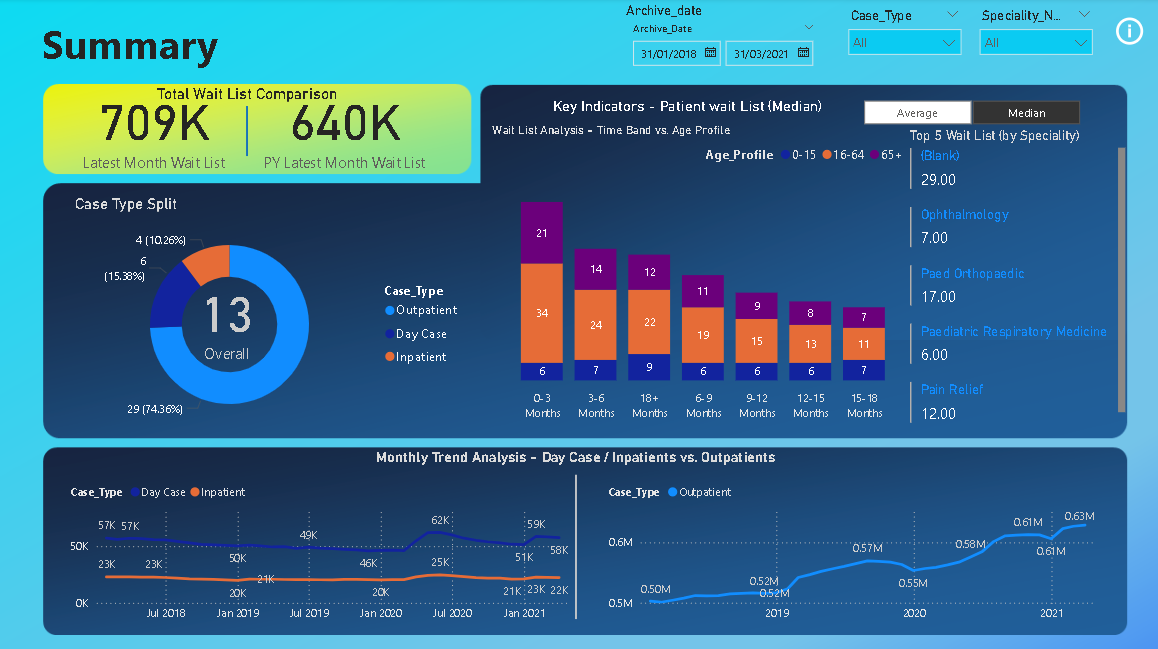

The dashboard page shown, as its layout file describes it:
{"tool":"powerbi","page":{"name":"Summary","canvas":[1280,720],"ordinal":0},"visuals":[{"type":"card","fields":{"Values":["All_Data.Latest Month Wait List"]},"box":[40.4,85.2,272.2,112.4],"z":0},{"type":"card","fields":{"Values":["All_Data.PY Latest Month Wait List"]},"box":[241.5,85.2,288,112.4],"z":1000},{"type":"donutChart","title":"Case Type Split","fields":{"Category":["All_Data.Case_Type"],"Y":["All_Data.Avg/Med Wait List"]},"box":[83.4,215.8,434,267.3],"z":2000},{"type":"slicer","fields":{"Values":["Calculation Method (2).Calc Method"]},"box":[928.4,105.5,287.3,39.9],"z":3000},{"type":"columnChart","title":"Wait List Analysis - Time Band vs. Age Profile","fields":{"Y":["All_Data.Avg/Med Wait List"],"Category":["All_Data.Time_Bands"],"Series":["All_Data.Age_Profile"]},"box":[541.9,137.3,465.9,333.5],"z":4000},{"type":"multiRowCard","title":"Top 5 Wait List (by Speciality)","fields":{"Values":["All_Data.Specialty_Name","All_Data.Avg/Med Wait List"]},"box":[1000.9,143.1,246.5,333.9],"z":5000},{"type":"shape","title":"Monthly Trend Analysis - Day Case / Inpatients vs. Outpatients","box":[392.3,495.3,492.9,186.4],"z":5500},{"type":"card","fields":{"Values":["All_Data.NoDataLeft"]},"box":[186.4,522.3,355.6,159.4],"z":6000},{"type":"lineChart","fields":{"Category":["All_Data.Archive_Date"],"Y":["Sum(All_Data.Total)"],"Series":["All_Data.Case_Type"]},"box":[79.5,523,568,171.4],"z":7000},{"type":"card","fields":{"Values":["All_Data.NoDataRight"]},"box":[770,514.5,354.7,159.8],"z":8000},{"type":"lineChart","fields":{"Category":["All_Data.Archive_Date"],"Y":["Sum(All_Data.Total)"],"Series":["All_Data.Case_Type"]},"box":[670,523.3,545.3,171.2],"z":9000},{"type":"slicer","title":"Archive_date","fields":{"Values":["All_Data.Archive_Date"]},"box":[688.4,6.1,223.9,95.7],"z":10000},{"type":"slicer","fields":{"Values":["All_Data.Case_Type"]},"box":[928.1,6.1,144,70.2],"z":11000},{"type":"slicer","fields":{"Values":["All_Data.Speciality_Name"]},"box":[1072.1,6.1,144,70.2],"z":12000},{"type":"textbox","box":[48.3,15.8,212.5,79.9],"z":13000},{"type":"shape","title":"Total Wait List Comparison","box":[127.3,94.8,300.3,79],"z":14000},{"type":"card","fields":{"Values":["All_Data.Avg/Med Wait List"]},"box":[134.9,228,242.8,247.7],"z":16000},{"type":"card","fields":{"Values":["All_Data.Dynamic Title"]},"box":[530.9,94.6,460,49.9],"z":17000},{"type":"actionButton","box":[1227,15.9,39.8,39.8],"z":18000}]}

Visuals, with their boxes in screenshot pixels (x1, y1, x2, y2), scaled from the page's 1280x720 canvas onto the 1158x649 screenshot:
card - All_Data.Latest Month Wait List: box=[37, 77, 283, 178]
card - All_Data.PY Latest Month Wait List: box=[218, 77, 479, 178]
"Case Type Split" donutChart: box=[75, 195, 468, 435]
slicer - Calculation Method (2).Calc Method: box=[840, 95, 1100, 131]
"Wait List Analysis - Time Band vs. Age Profile" columnChart: box=[490, 124, 912, 424]
"Top 5 Wait List (by Speciality)" multiRowCard: box=[906, 129, 1129, 430]
"Monthly Trend Analysis - Day Case / Inpatients vs. Outpatients" shape: box=[355, 446, 801, 614]
card - All_Data.NoDataLeft: box=[169, 471, 490, 614]
lineChart - All_Data.Archive_Date x Sum(All_Data.Total): box=[72, 471, 586, 626]
card - All_Data.NoDataRight: box=[697, 464, 1018, 608]
lineChart - All_Data.Archive_Date x Sum(All_Data.Total): box=[606, 472, 1099, 626]
"Archive_date" slicer: box=[623, 5, 825, 92]
slicer - All_Data.Case_Type: box=[840, 5, 970, 69]
slicer - All_Data.Speciality_Name: box=[970, 5, 1100, 69]
textbox: box=[44, 14, 236, 86]
"Total Wait List Comparison" shape: box=[115, 85, 387, 157]
card - All_Data.Avg/Med Wait List: box=[122, 206, 342, 429]
card - All_Data.Dynamic Title: box=[480, 85, 896, 130]
actionButton: box=[1110, 14, 1146, 50]
